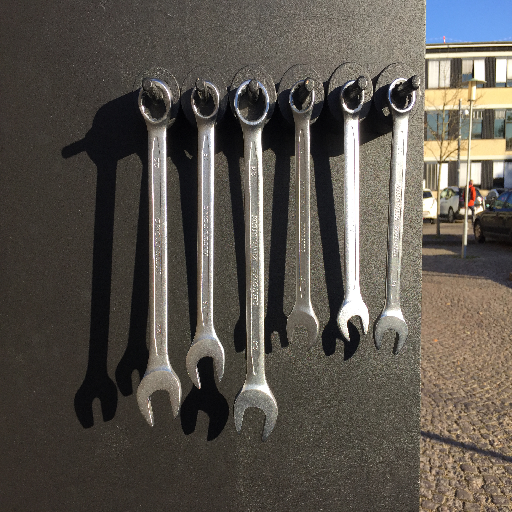bottom: (228, 383, 283, 443), (135, 367, 183, 428), (182, 337, 232, 390), (372, 309, 410, 355), (332, 304, 372, 342), (284, 309, 321, 350)
top: (134, 74, 176, 128), (231, 77, 272, 128), (188, 80, 222, 122), (384, 76, 421, 113), (337, 80, 370, 117), (287, 77, 319, 115)
